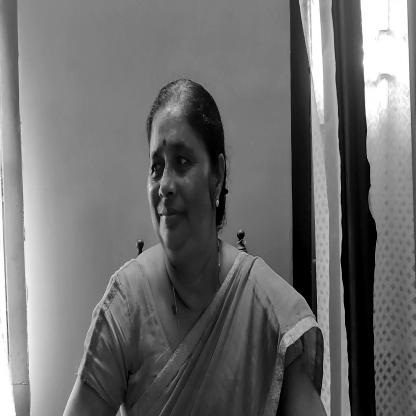Distracted: (136, 79, 223, 255)
